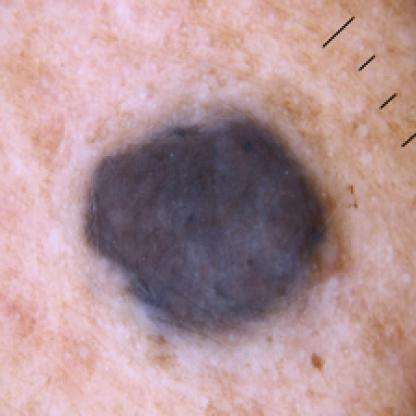benign: (61, 98, 344, 342)
